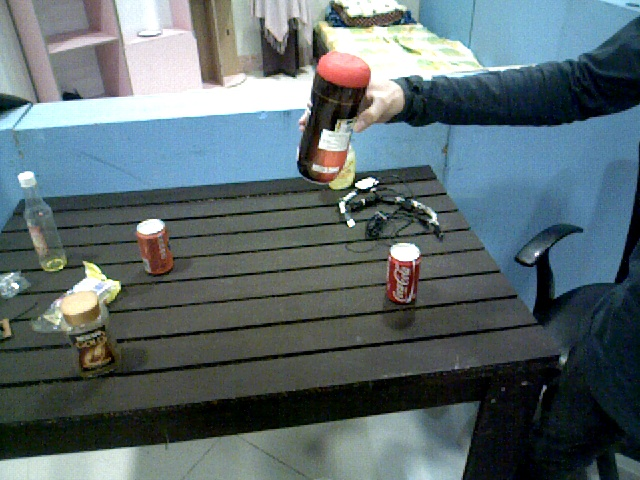coca: (387, 243, 421, 307)
coffee: (60, 292, 124, 381)
cream: (297, 51, 372, 186)
fanta: (136, 217, 173, 277)
